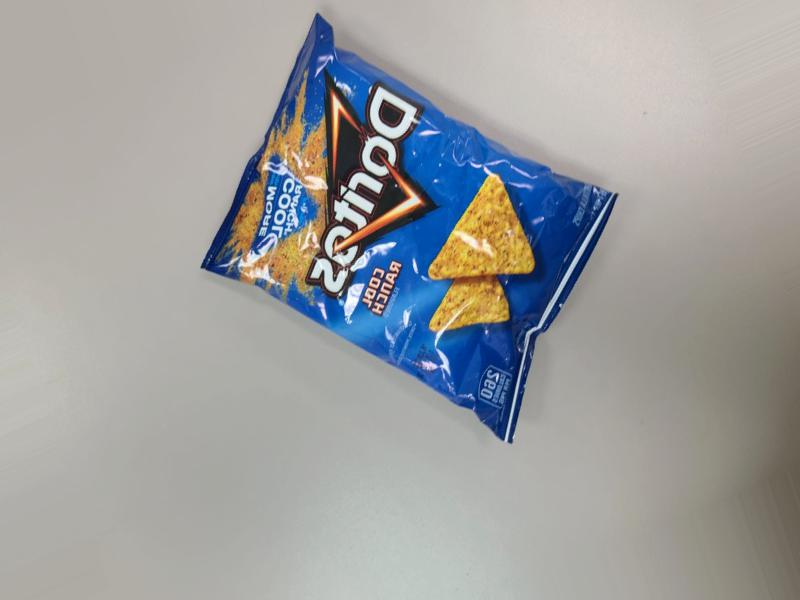doritos: (266, 130, 649, 507)
